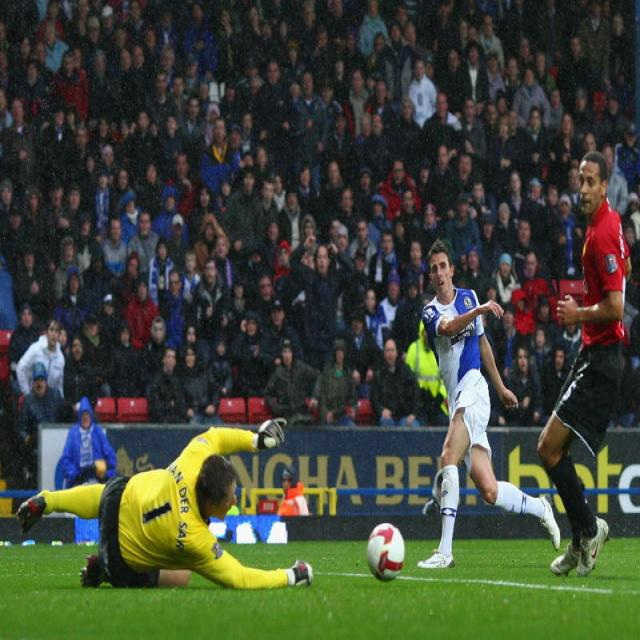10-: (1, 4, 639, 572)
down: (13, 404, 318, 598)
